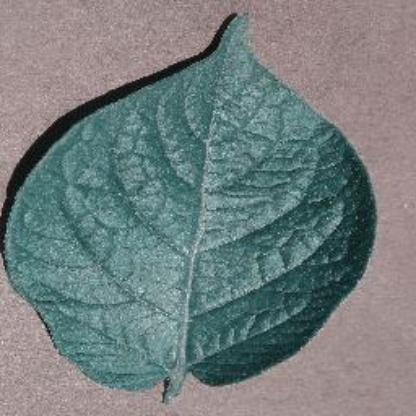Healthy-plant: (15, 16, 384, 402)
